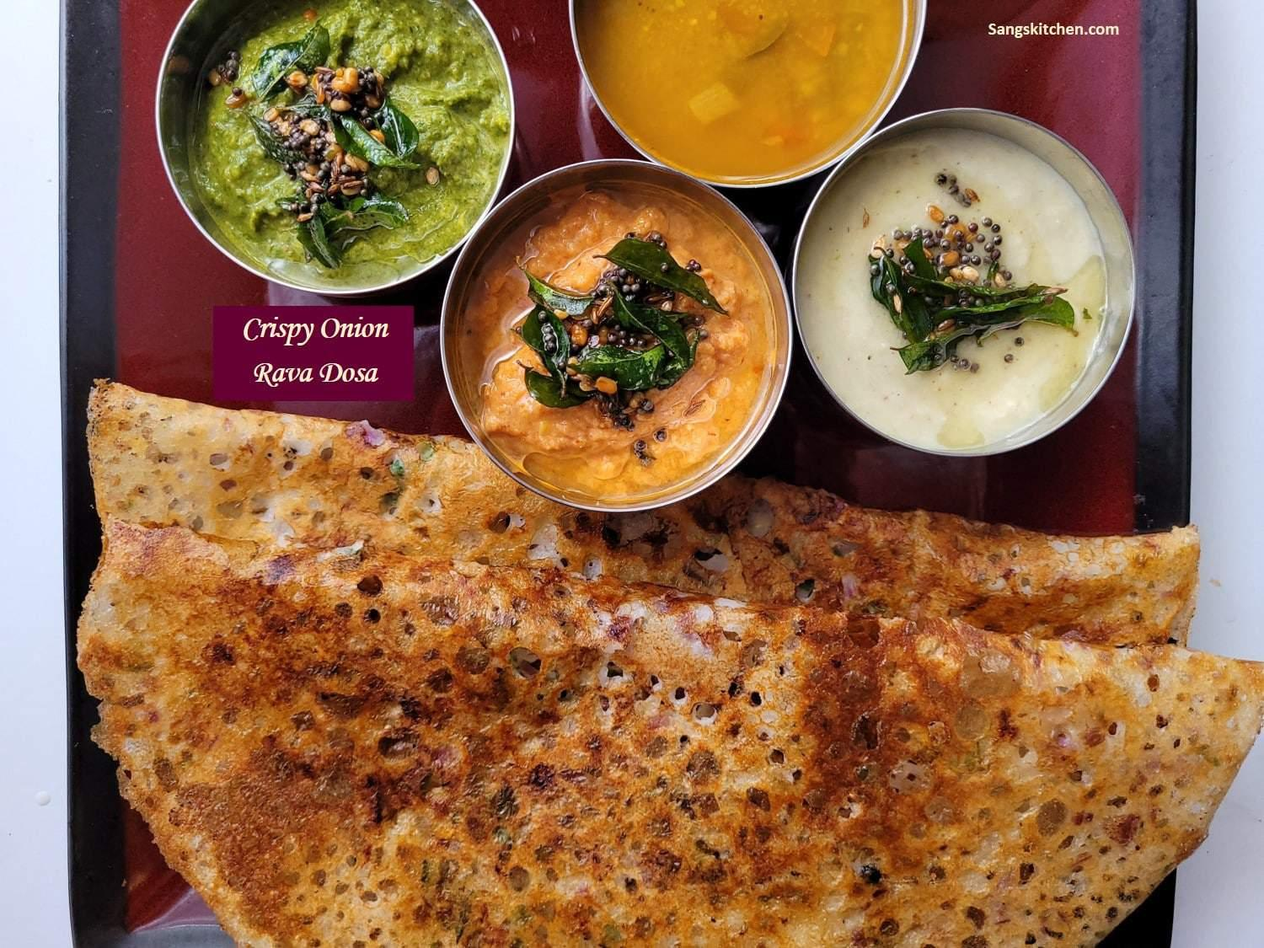coconut chutney: (821, 144, 1108, 436), (212, 0, 496, 284)
dosa: (139, 442, 1215, 948)
sambhar: (566, 9, 924, 187)
